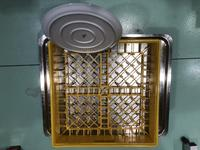Inclined_dish: (42, 3, 122, 53)
